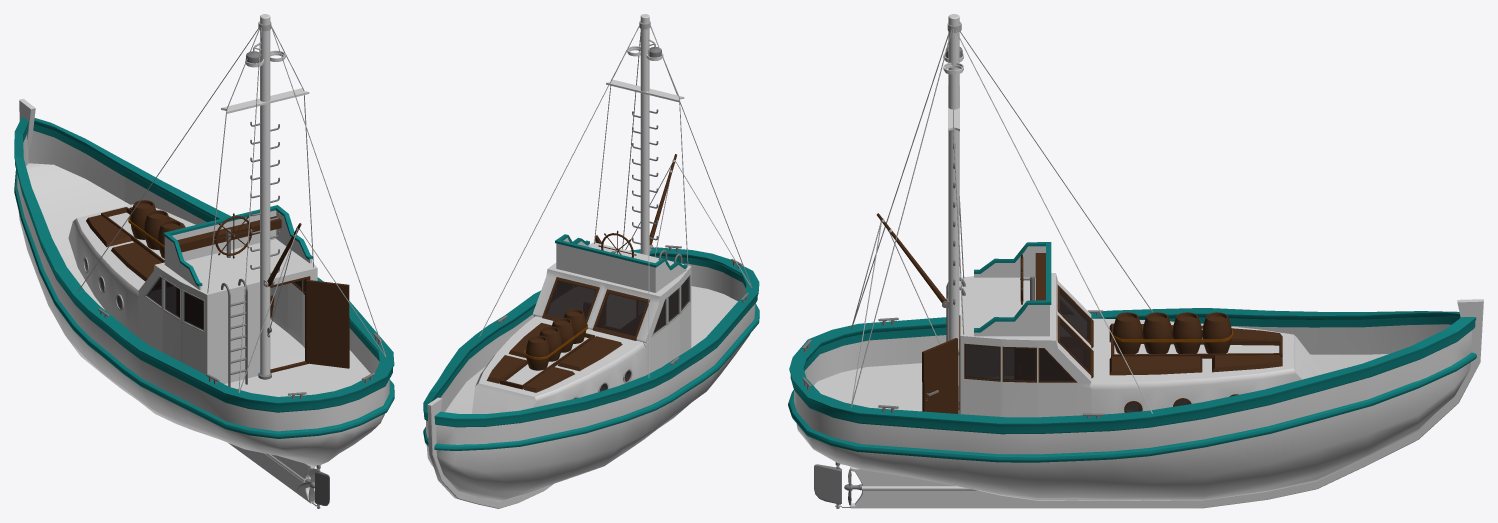
Rendered from ship.glb.
3 views of the same model, side by side, from view 1: azimuth 30°, elevation 25°; view 2: azimuth 150°, elevation 25°; view 3: azimuth 270°, elevation 25° (orthographic). The views are drawn at different scales.
Parts seen in each view (by area): view 1: polySurface3, pCube23, polySurface2, polySurface1, pCylinder30, polySurface96, polySurface34, pCube27, pCube6, polySurface35, pCube51, pCylinder49 (+14 smaller); view 2: polySurface3, pCube23, polySurface2, polySurface34, pCube27, polySurface1, pCylinder30, pCube9, polySurface7, polySurface5, polySurface35, pCylinder73 (+10 smaller); view 3: polySurface3, polySurface2, pCube23, polySurface1, pCube9, pCube6, pCylinder30, pCube27, polySurface34, polySurface96, polySurface74, polySurface35 (+7 smaller).
Part boxes in pixels (x1,y1,x2,y2): polySurface3: (17,130,389,466); pCube23: (68,204,317,383); polySurface2: (14,116,394,412); polySurface1: (14,169,394,438); pCylinder30: (260,14,270,375); polySurface96: (306,279,349,368); polySurface34: (164,210,311,290); pCube27: (86,207,185,281); pCube6: (228,443,314,503); polySurface35: (163,205,312,286); pCube51: (177,216,281,252); pCylinder49: (221,278,247,386); polySurface3: (426,263,755,502); pCube23: (472,242,691,413); polySurface2: (423,247,759,427); polySurface34: (556,237,686,292); pCube27: (486,323,622,392); polySurface1: (423,303,759,450); pCylinder30: (640,14,649,255); pCube9: (427,397,553,508); polySurface7: (593,293,647,340); polySurface5: (542,280,596,320); polySurface35: (555,234,687,270); pCylinder73: (525,335,550,370); polySurface3: (794,324,1471,500); polySurface2: (789,308,1476,434); pCube23: (960,273,1322,417); polySurface1: (788,352,1476,462); pCube9: (1037,299,1483,508); pCube6: (850,466,1037,508); pCylinder30: (948,14,959,405); pCube27: (1109,323,1282,375); polySurface34: (974,246,1049,336); polySurface96: (922,338,959,413); polySurface74: (965,345,999,380); polySurface35: (974,242,1051,332).
Size of the model in its own units: 17.2 by 35.59 by 45.56.
